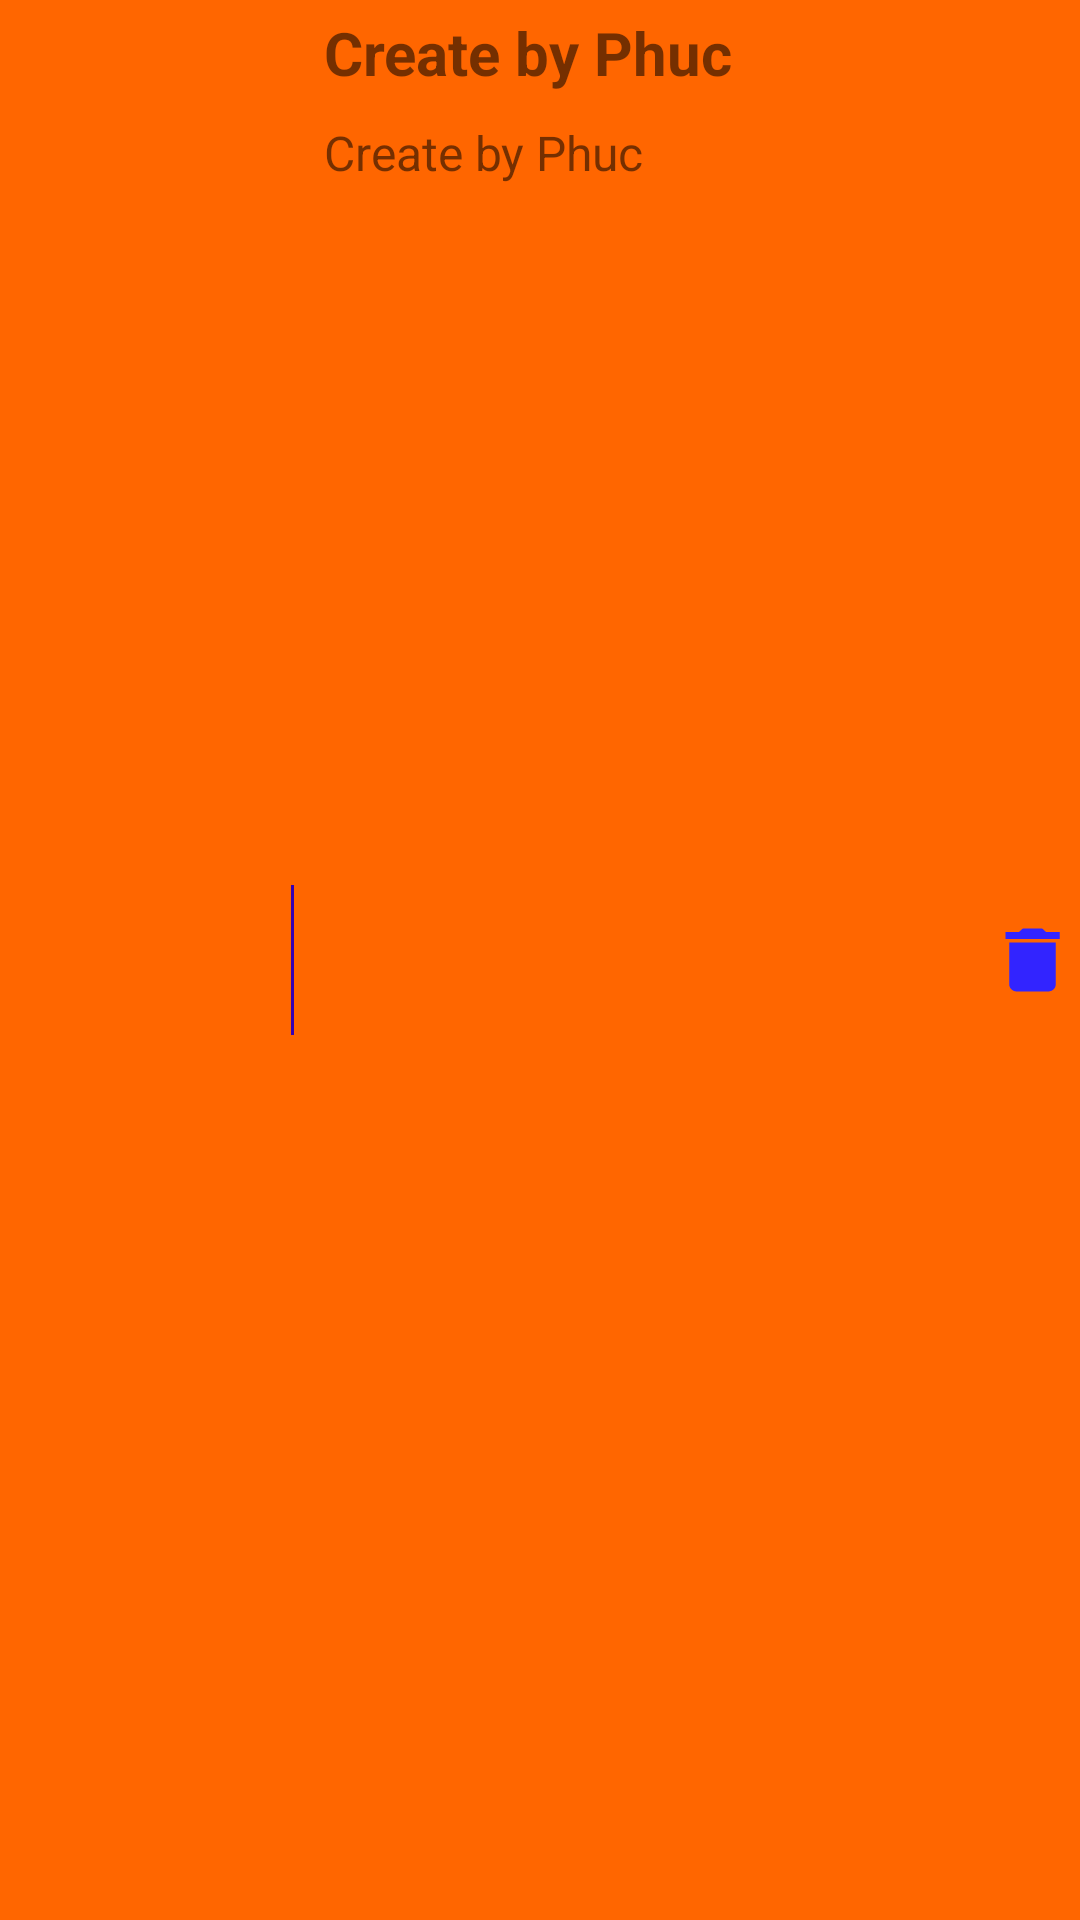

Locate icon controls on the screen. Image size 1080x1920, boxes as [x1,y1,x2,y2].
delete: [1005,928,1060,992]
